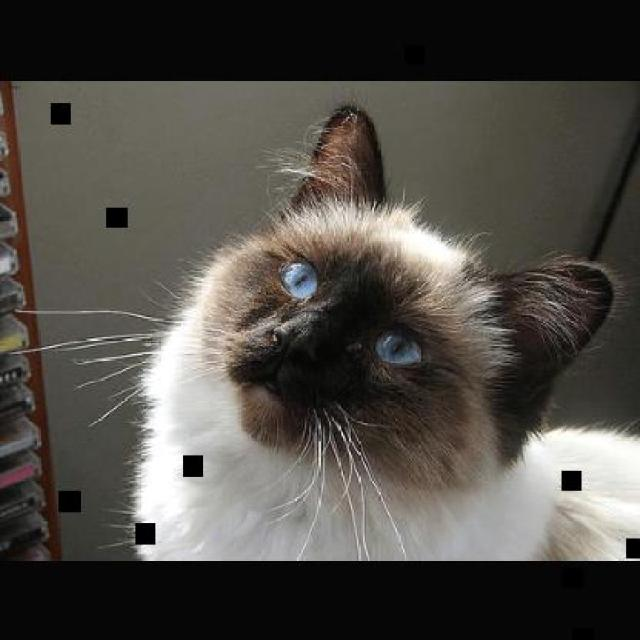unauthorized: (7, 102, 638, 560)
